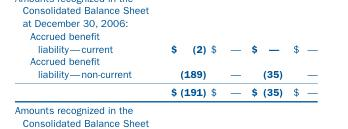table: (29, 29, 316, 97)
table column: (29, 29, 150, 97), (150, 29, 207, 97), (245, 29, 287, 97), (207, 29, 245, 97), (287, 29, 316, 97)
table column header: (29, 29, 316, 54)
table row: (29, 54, 316, 82), (29, 29, 316, 54), (29, 82, 316, 97)
